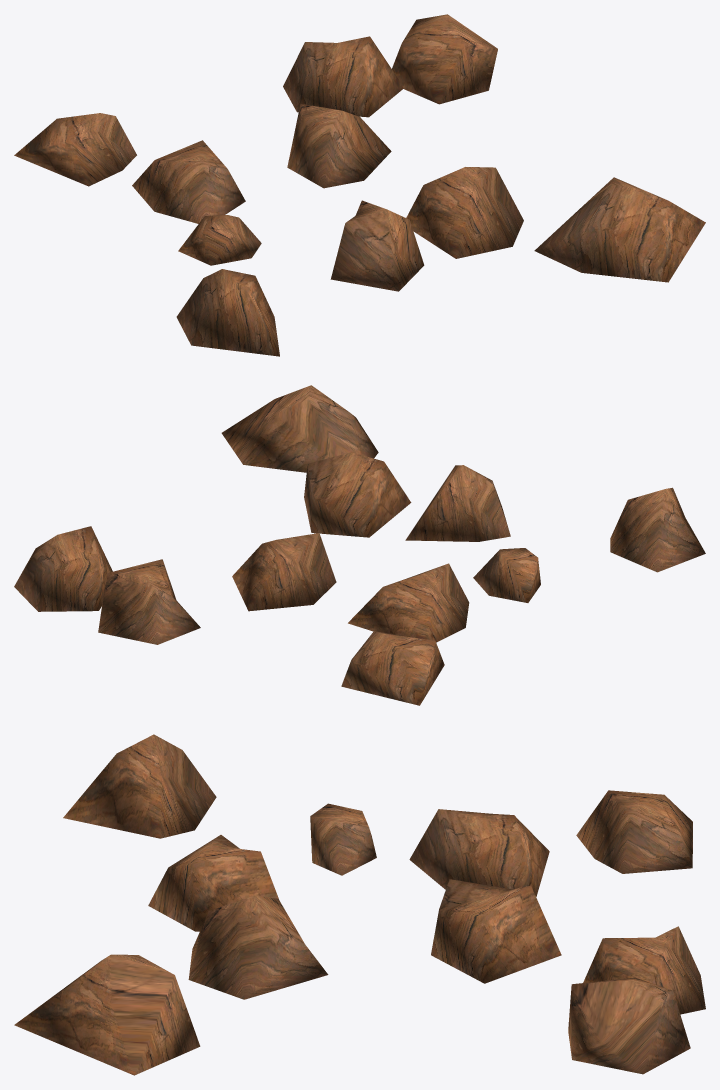
Rendered from rock_tatt_jundland_pebble_a1_l1.fbx.
3 views of the same model, one above another, from view 1: azimuth 30°, elevation 25°; view 2: azimuth 150°, elevation 25°; view 3: azimuth 270°, elevation 25° (orthographic). The views are drawn at different scales.
Parts seen in each view (by area): view 1: mesh_node; view 2: mesh_node; view 3: mesh_node.
Boxes of the visible parts, x1=… form: mesh_node: x1=14, y1=14, x2=705, y2=356; mesh_node: x1=14, y1=385, x2=705, y2=705; mesh_node: x1=14, y1=734, x2=705, y2=1075.
Bounding box in the file's own units: 1.21 × 0.1439 × 1.22.
